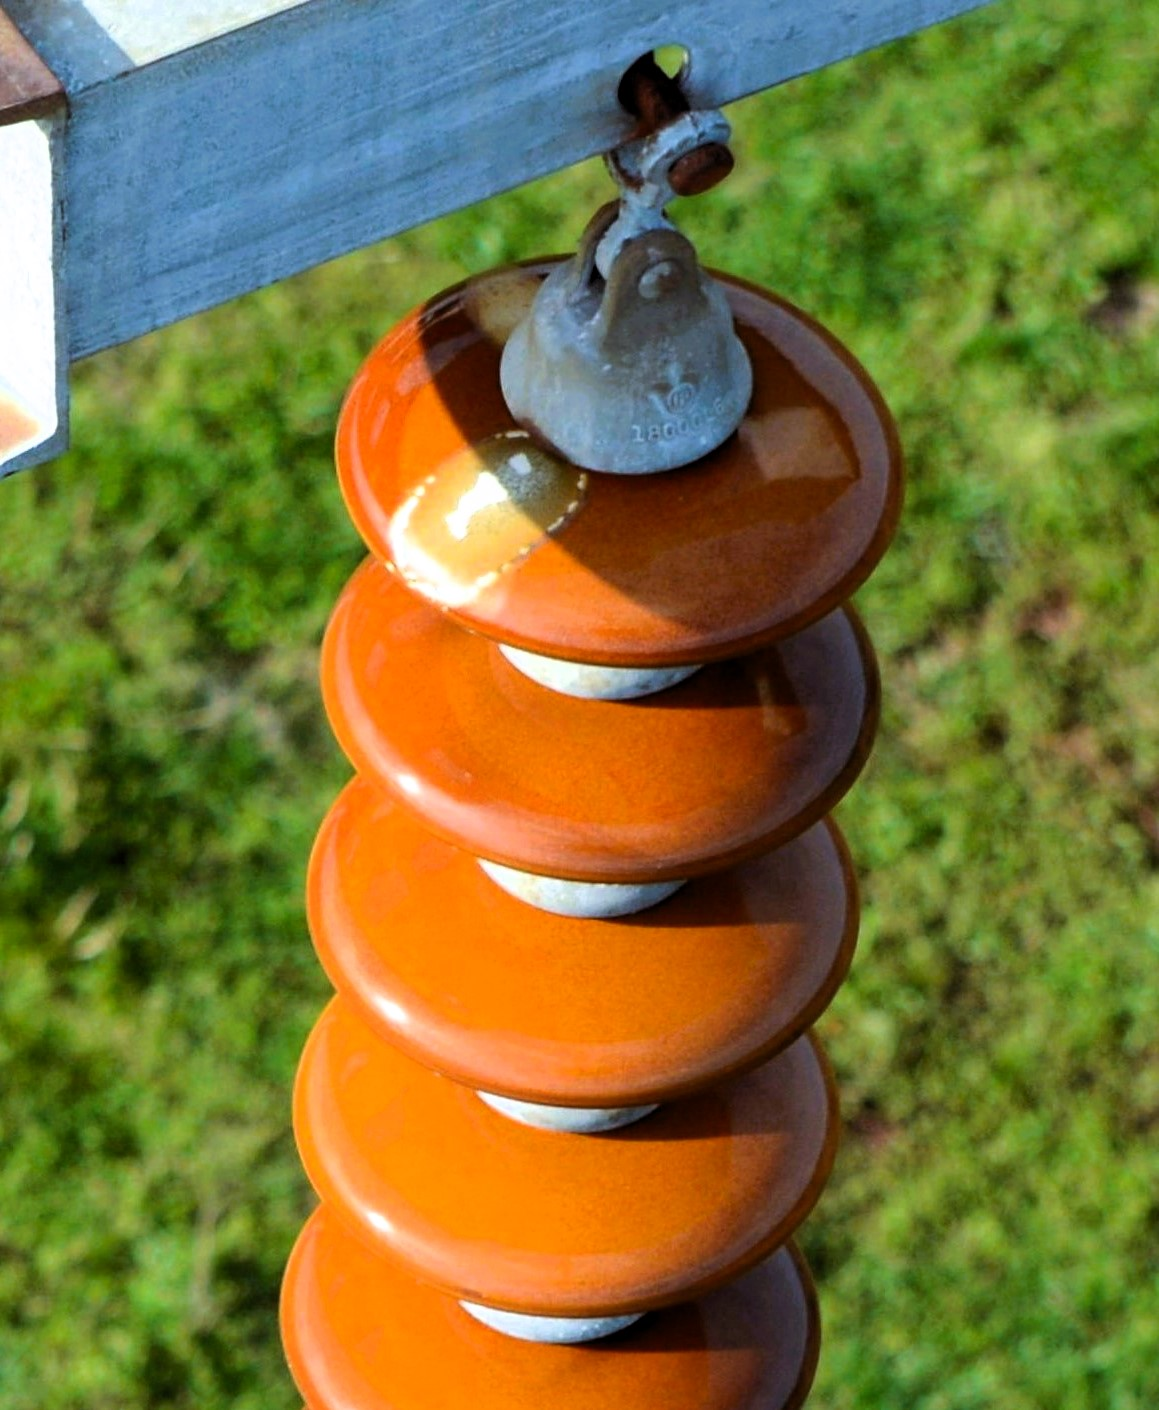Insulator flashover: (330, 249, 911, 673)
